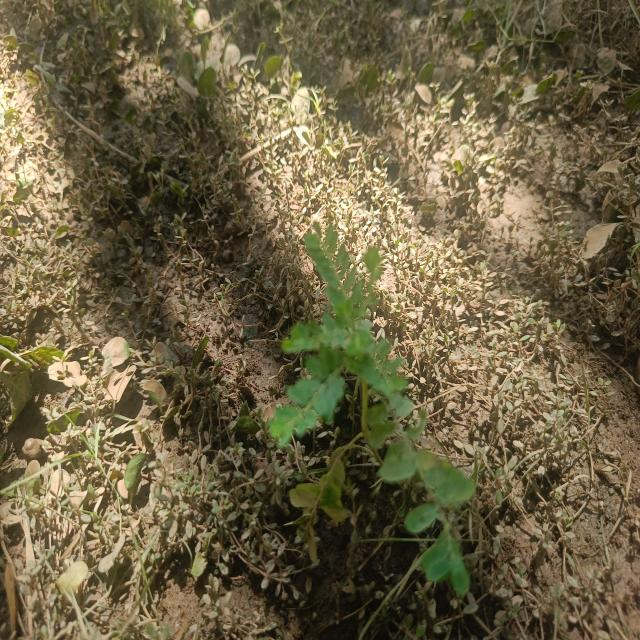weed: (263, 221, 485, 608)
